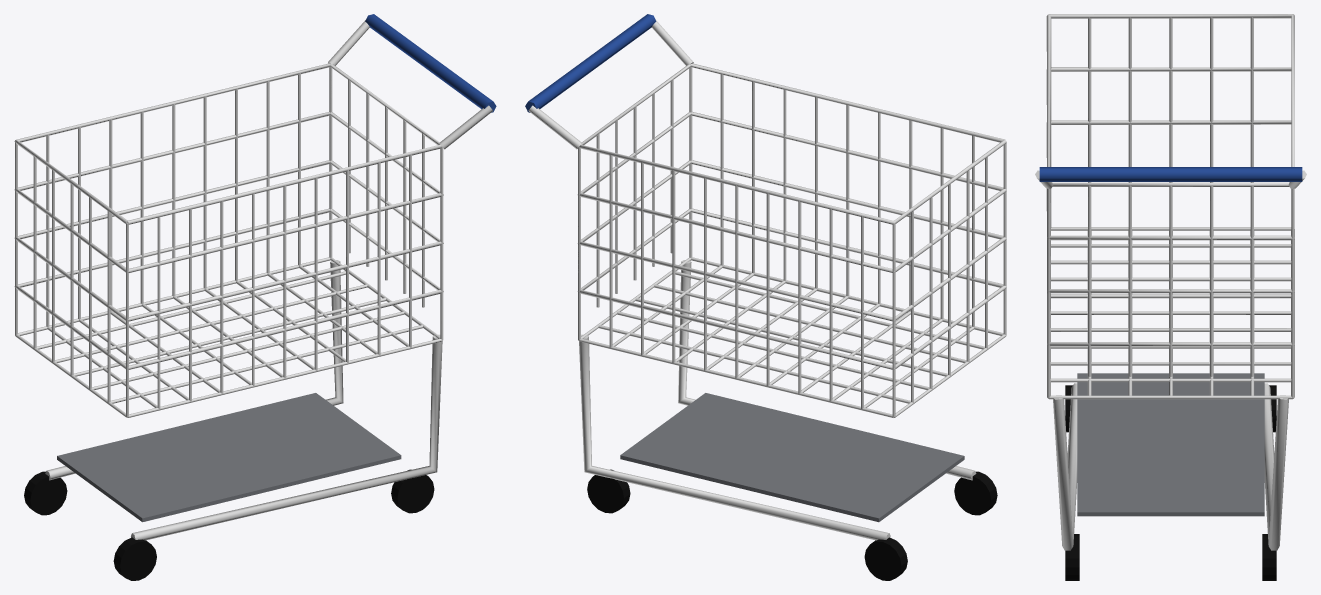
Rendered from cart.glb.
The picture shows the model from 3 angles, left to right: view 1: azimuth 30°, elevation 25°; view 2: azimuth 150°, elevation 25°; view 3: azimuth 270°, elevation 25°; orthographic projection. The views are drawn at different scales.
Parts seen in each view (by area): view 1: Cart; view 2: Cart; view 3: Cart.
Part boxes in pixels (x1=…): Cart: x1=14, y1=14, x2=496, y2=580; Cart: x1=525, y1=14, x2=1006, y2=580; Cart: x1=1035, y1=14, x2=1306, y2=580.
Size of the model in its own units: 0.991 by 1.04 by 0.5797.
